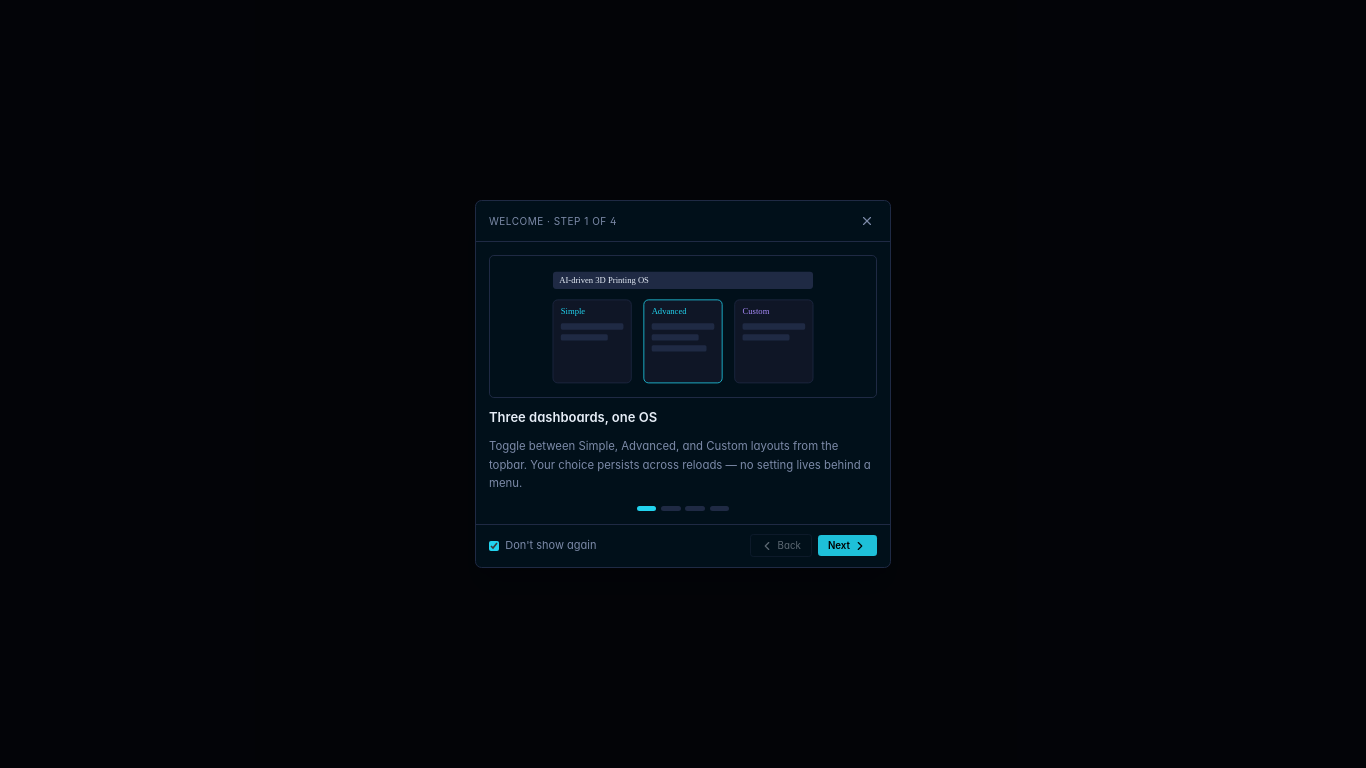
Test: OnboardingModal › Back button is disabled on the first step and enabled afterwards
Expected: the button with test id "onboarding-back" is disabled, x1=750 y1=534 x2=812 y2=557
Step 1. Click the button with test id "onboarding-next" → (848, 546), box x1=818 y1=535 x2=877 y2=556
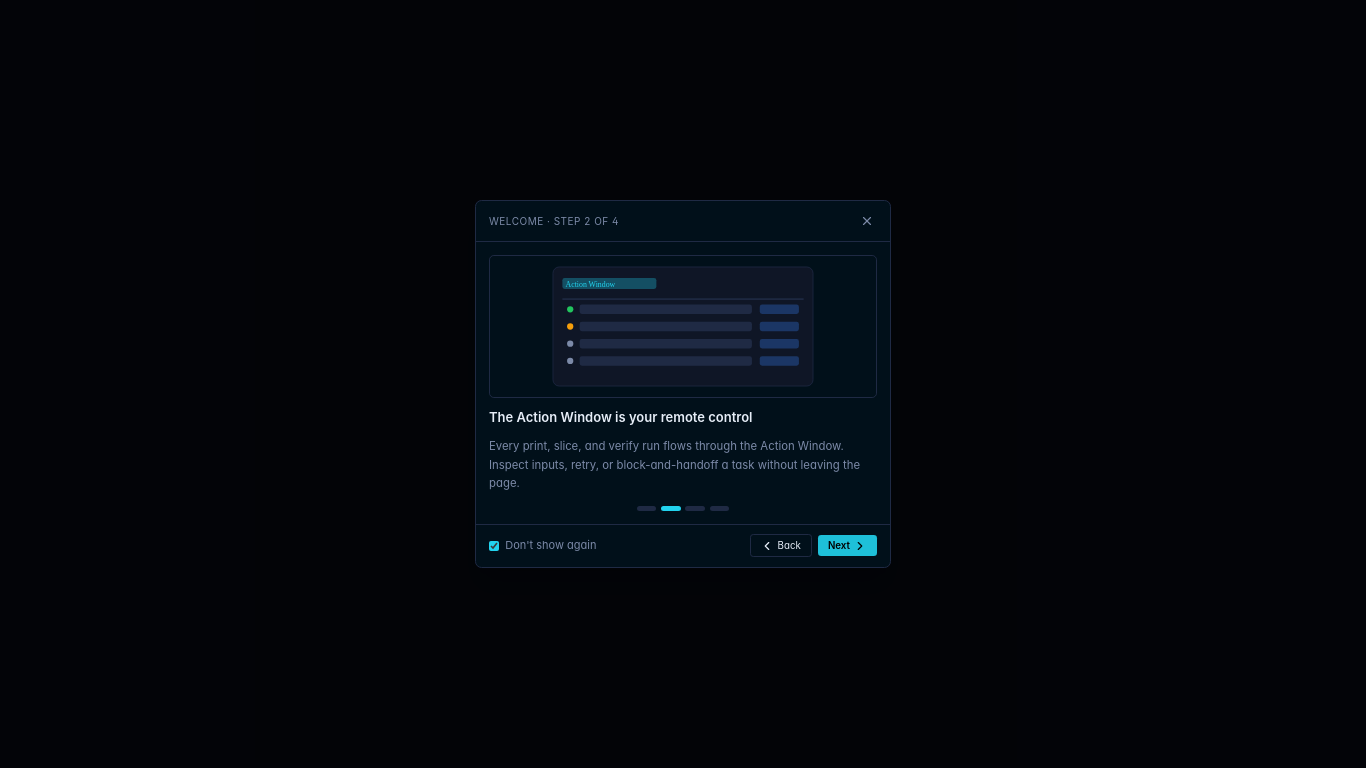
Expected: the button with test id "onboarding-back" is enabled
Step 2. Click the button with test id "onboarding-back" → (781, 546), box x1=750 y1=534 x2=812 y2=557
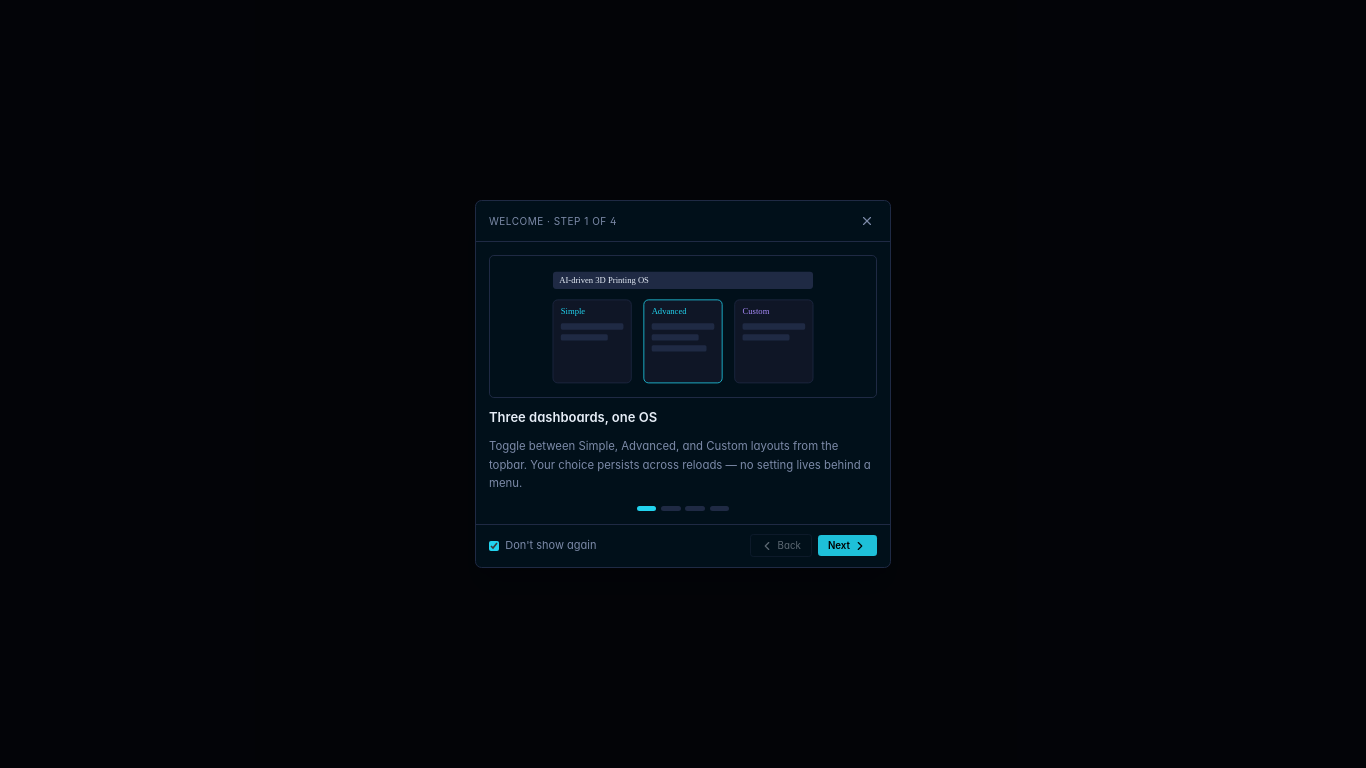
Expected: the heading "Three dashboards, one OS" is shown, x1=489 y1=409 x2=657 y2=425
